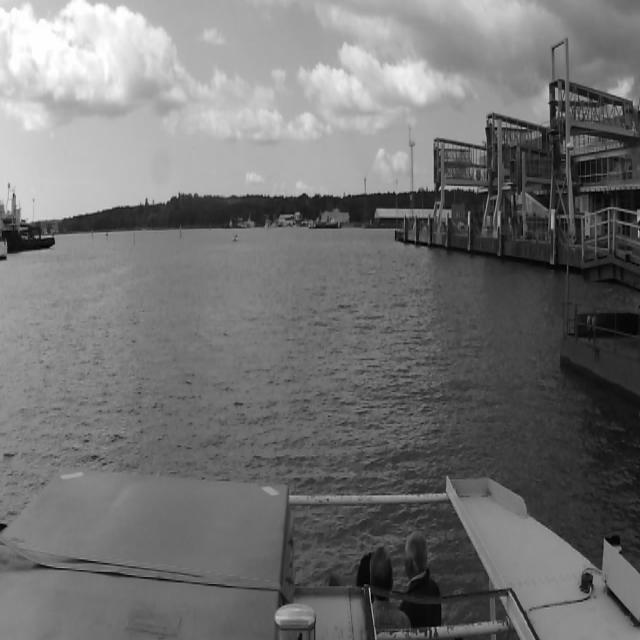buoy: (179, 221, 181, 241), (133, 231, 135, 247), (105, 229, 107, 241), (92, 228, 93, 238)
